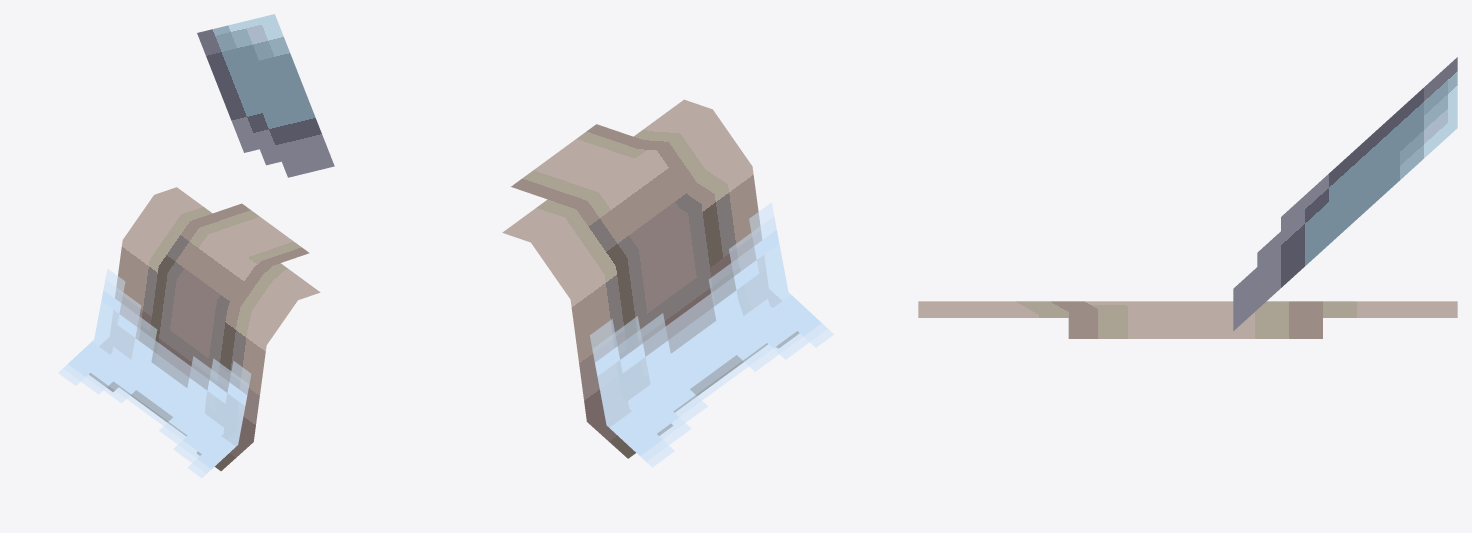
The picture shows the model from 3 angles, left to right: view 1: azimuth 30°, elevation 25°; view 2: azimuth 150°, elevation 25°; view 3: azimuth 270°, elevation 25°; orthographic projection. The views are drawn at different scales.
Bounding box in the file's own units: 1.05 × 1.29 × 1.
Materials: 3 (3 with a texture image).
